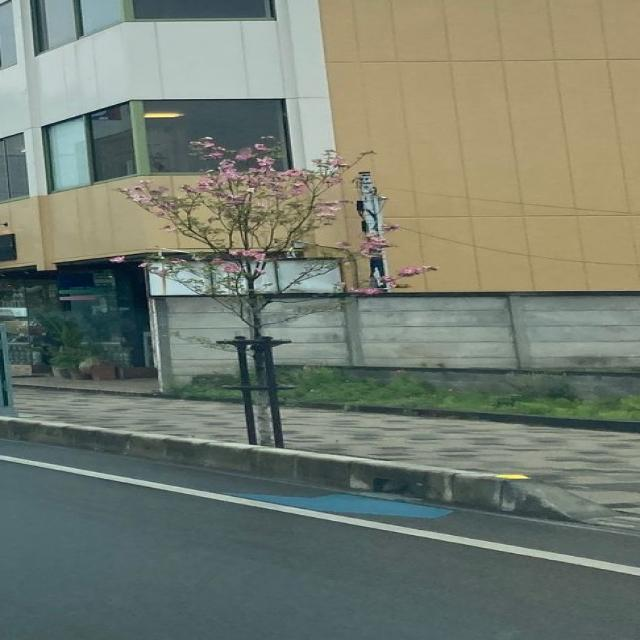dogwood: (109, 135, 442, 448)
